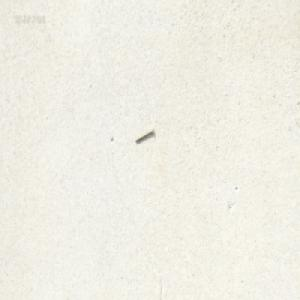Bolt: (134, 127, 153, 143)
